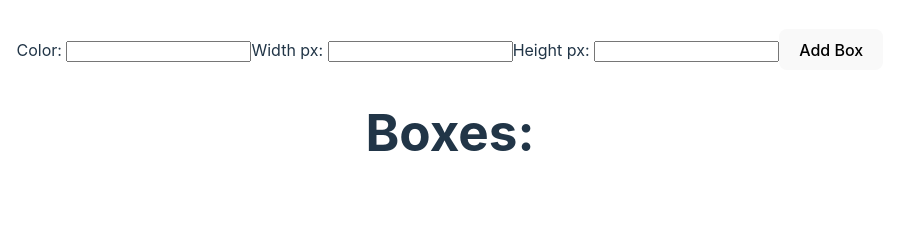
Test: can delete box
Type "blue" into the field labelled "Color:" at (159,51), box [66,40,252,62]
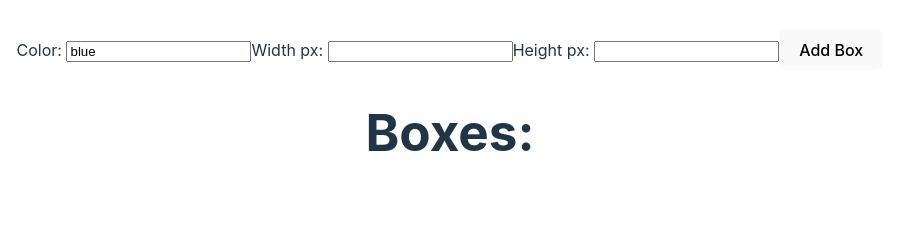
Type "50" into the field labelled "Width px:" at (420,51), box [328,40,513,62]
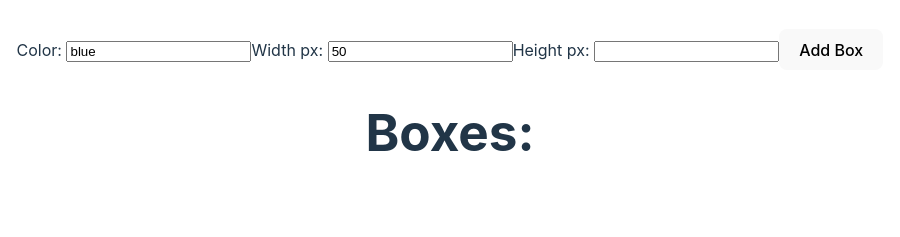
Type "50" into the field labelled "Height px:" at (686,51), box [594,40,779,62]
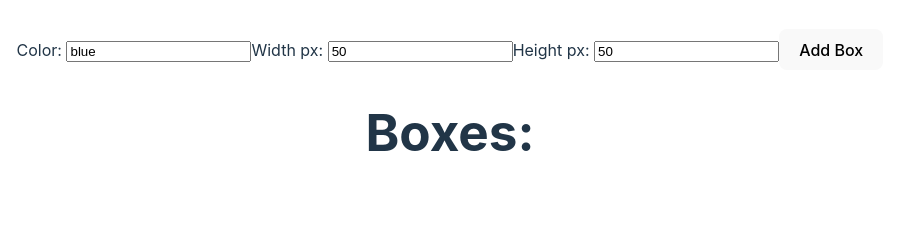
Click the button "Add Box" at (831,50), box [779,29,883,70]
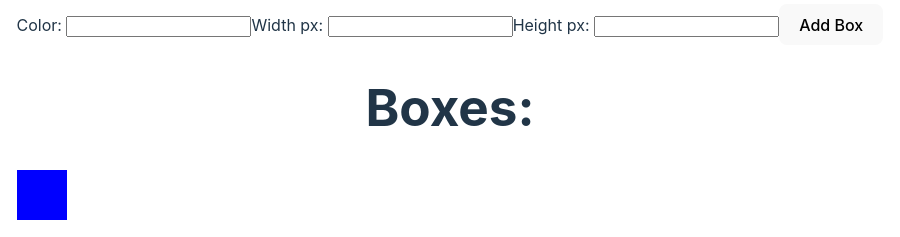
Check: the element with class "aBox" is shown
# Clicks box
Click the element with class "aBox" at (42,195), box [17,170,67,220]
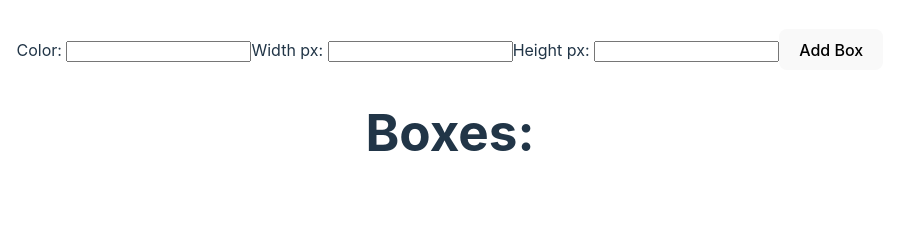
Check: the element with class "aBox" is gone
